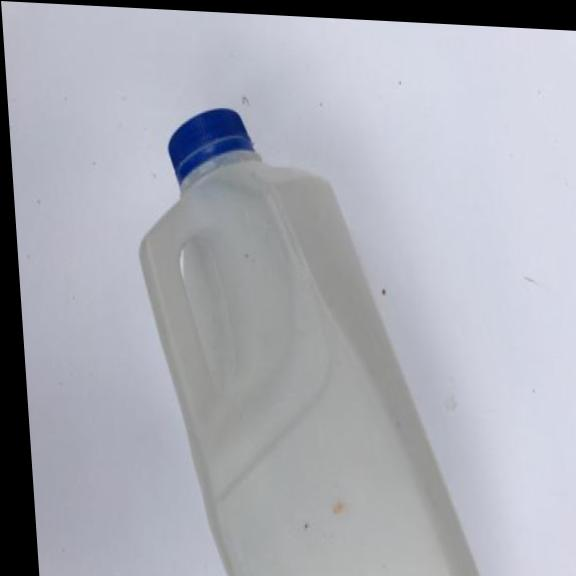Plastik: (119, 90, 492, 576)
